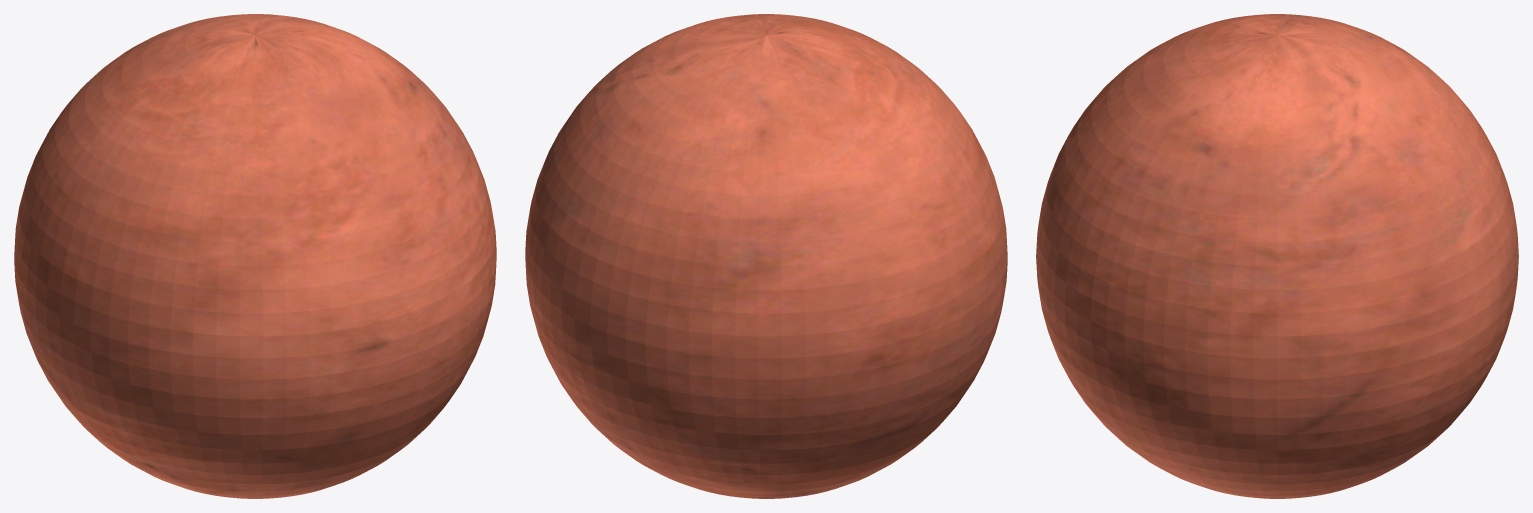
Rendered from Mars.obj.
3 views of the same model, side by side, from view 1: azimuth 30°, elevation 25°; view 2: azimuth 150°, elevation 25°; view 3: azimuth 270°, elevation 25° (orthographic).
Visible parts, largest first — view 1: Mars; view 2: Mars; view 3: Mars.
Part boxes in pixels (x1,y1,x2,y2): Mars: (14,14,496,498); Mars: (525,14,1007,498); Mars: (1036,14,1518,498).
Size of the model in its own units: 1.97 by 2 by 1.97.
